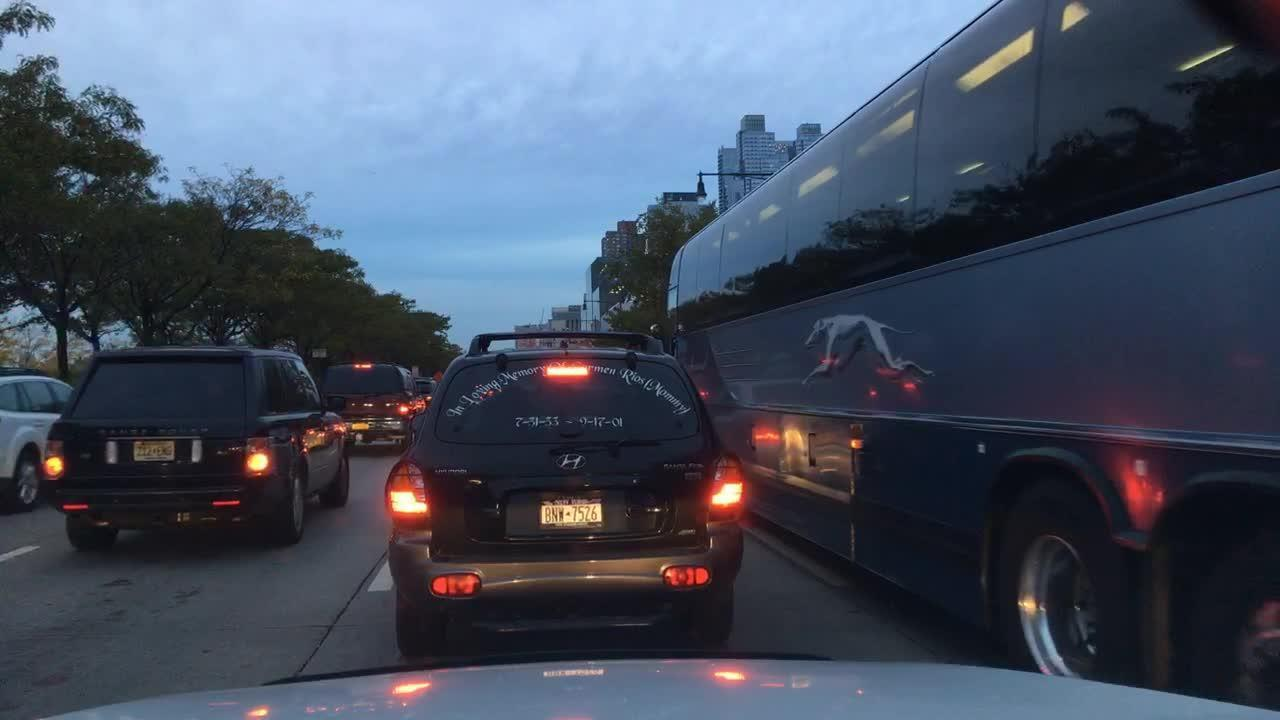Hyundai: (551, 448, 594, 473)
range rover: (95, 422, 218, 437)
